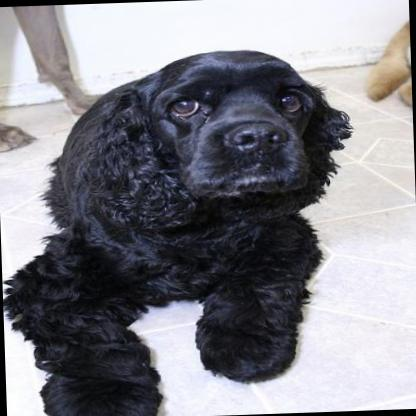cocker_spaniel: (0, 44, 361, 416)
